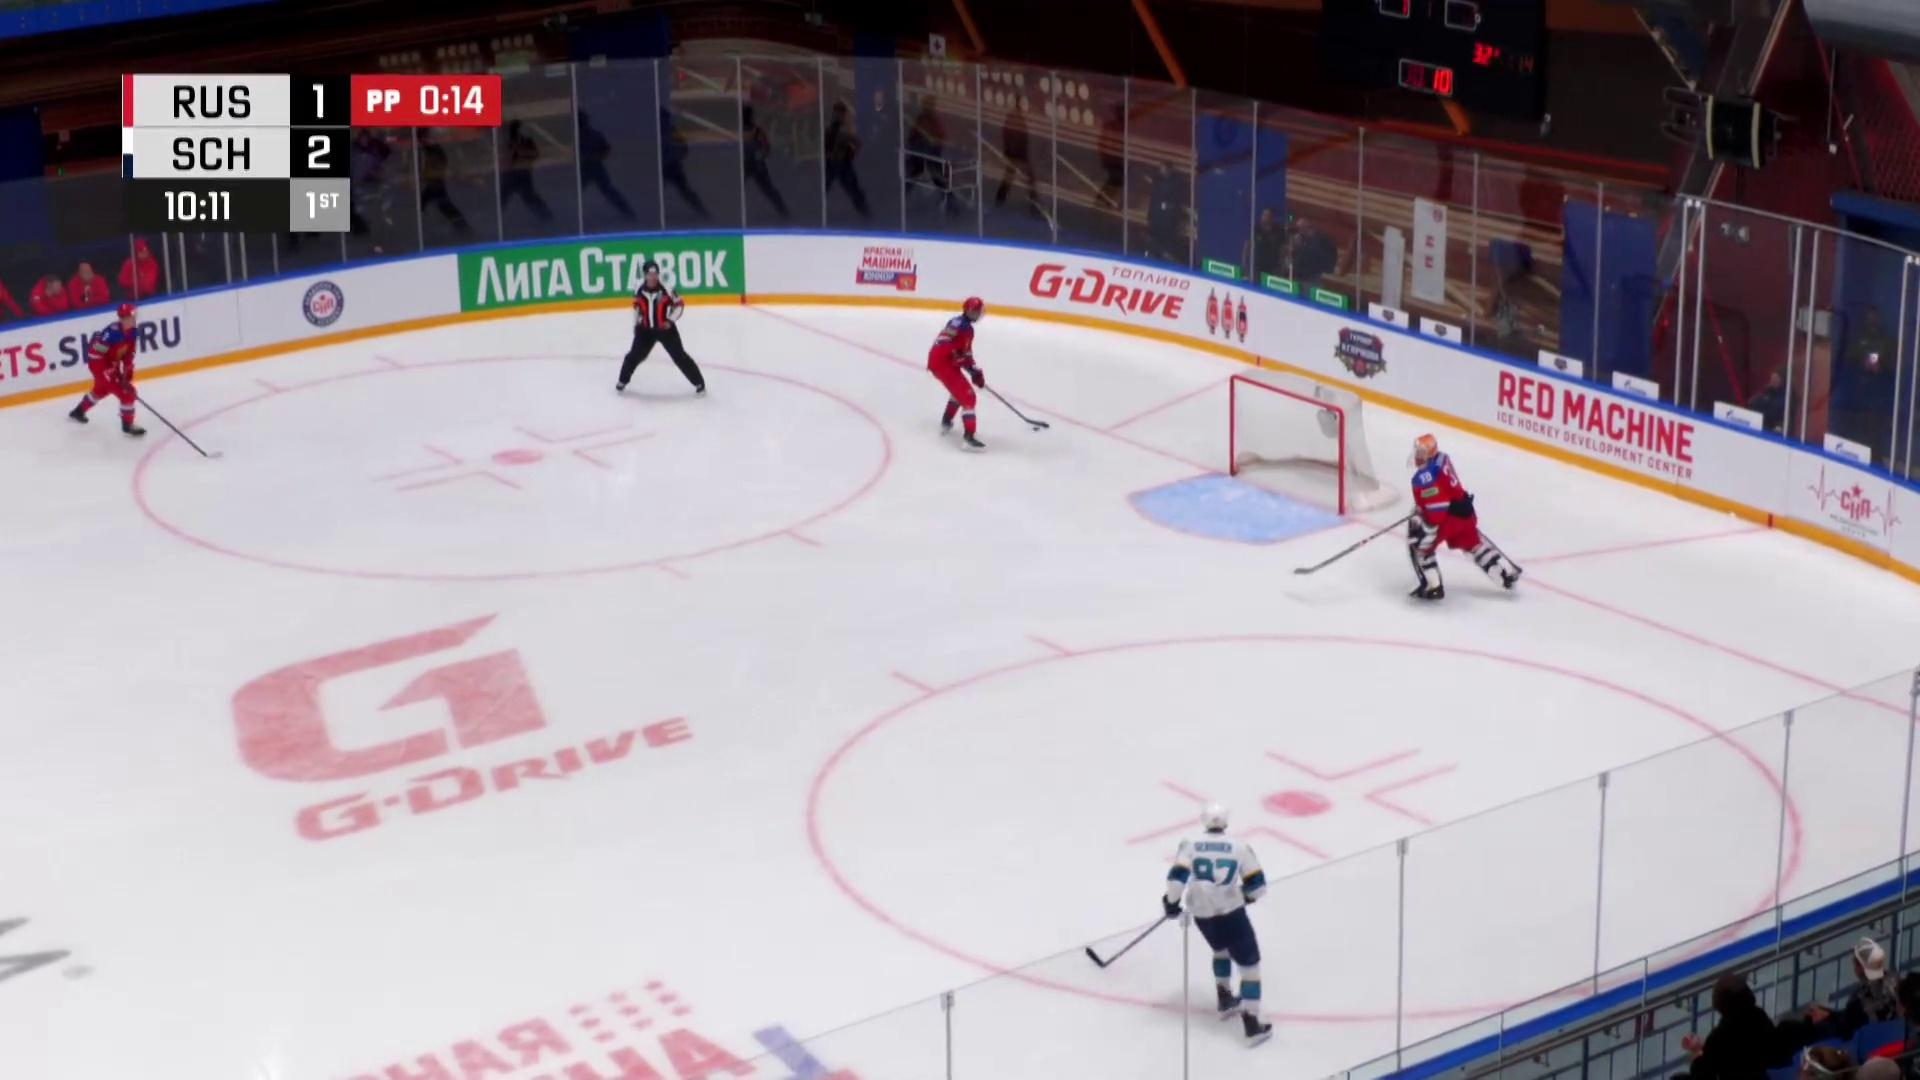ball: (1033, 427, 1042, 433)
